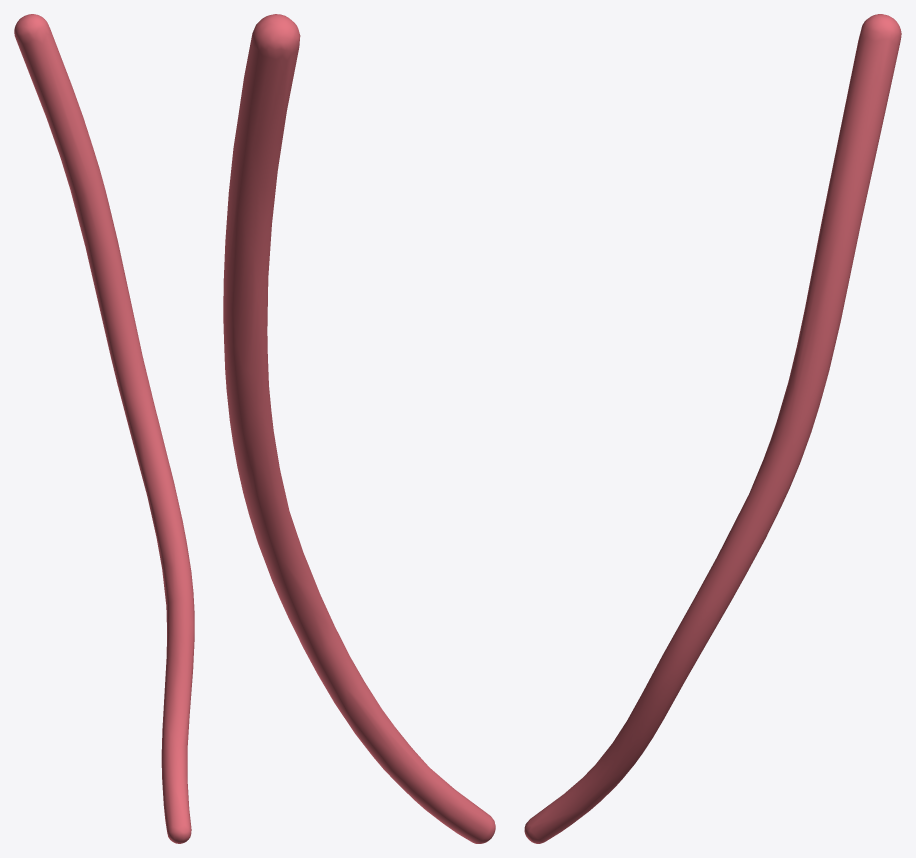
Rendered from fma268669_fj2245.glb.
3 renders of one model, left to right at view 1: azimuth 30°, elevation 25°; view 2: azimuth 150°, elevation 25°; view 3: azimuth 270°, elevation 25°, orthographic. The views are drawn at different scales.
Parts seen in each view (by area): view 1: FMA268669_FJ2245; view 2: FMA268669_FJ2245; view 3: FMA268669_FJ2245.
Part boxes in pixels (x1,y1,x2,y2): FMA268669_FJ2245: [14, 14, 194, 843]; FMA268669_FJ2245: [223, 14, 495, 843]; FMA268669_FJ2245: [524, 14, 901, 843].
Bounding box in the file's own units: 0.00765 × 0.0566 × 0.0234.
